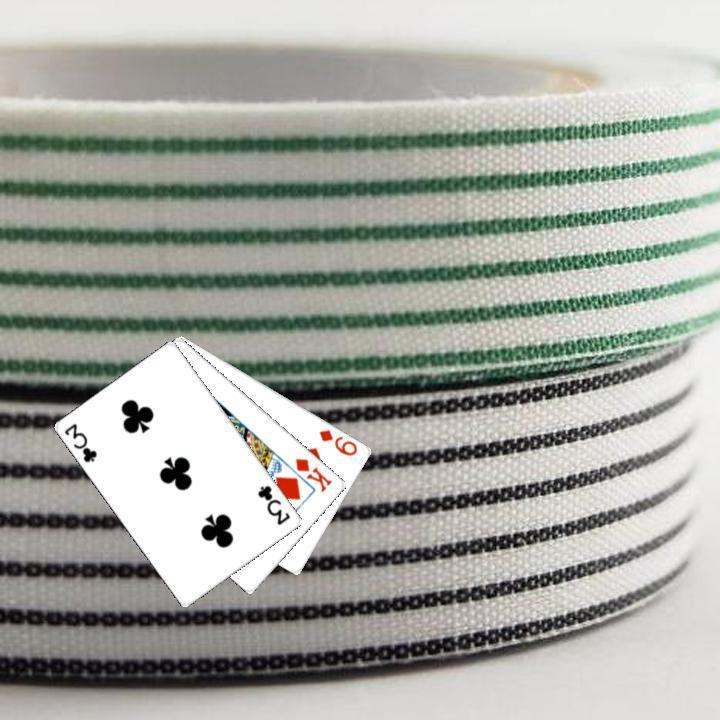3: (253, 481, 293, 527), (60, 419, 100, 465)
9: (315, 425, 360, 458)
K: (291, 453, 334, 494)
